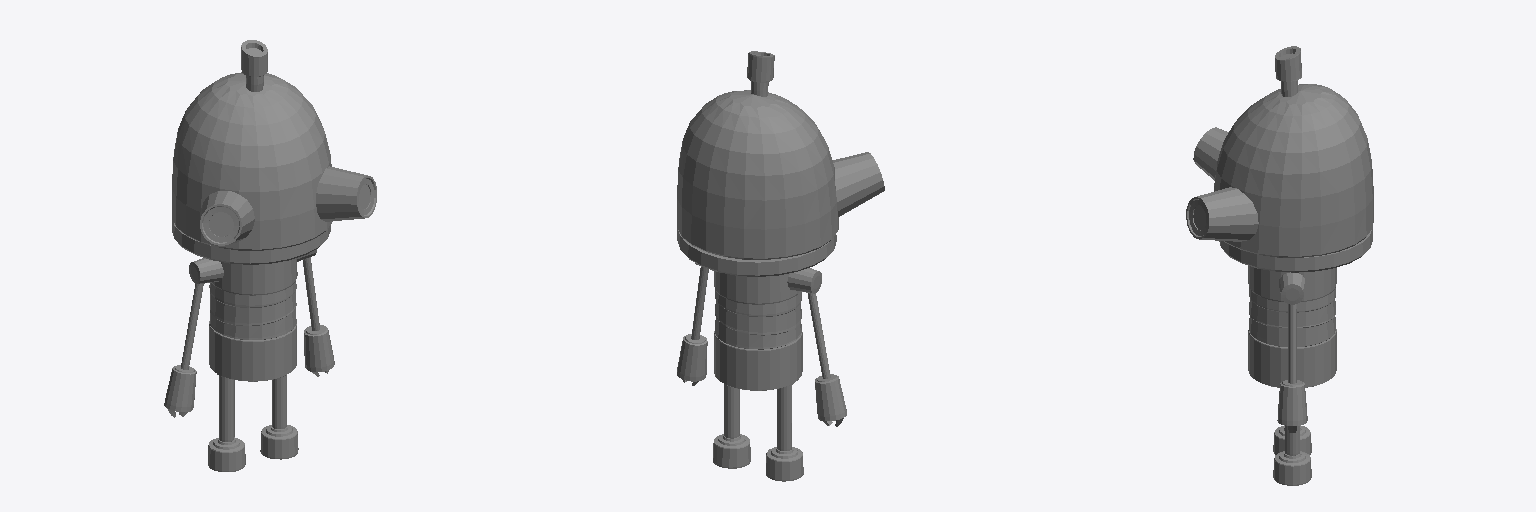
File: enemy-robot.obj
3 renders of one model, left to right at view 1: azimuth 30°, elevation 25°; view 2: azimuth 150°, elevation 25°; view 3: azimuth 270°, elevation 25°, orthographic.
Visible parts, largest first — view 1: Box02; view 2: Box02; view 3: Box02.
Part boxes in pixels (bbox=[...]): Box02: bbox=[164, 40, 376, 471]; Box02: bbox=[677, 51, 884, 481]; Box02: bbox=[1186, 46, 1373, 485].
Bounding box in the file's own units: 74.88 × 173 × 70.91.